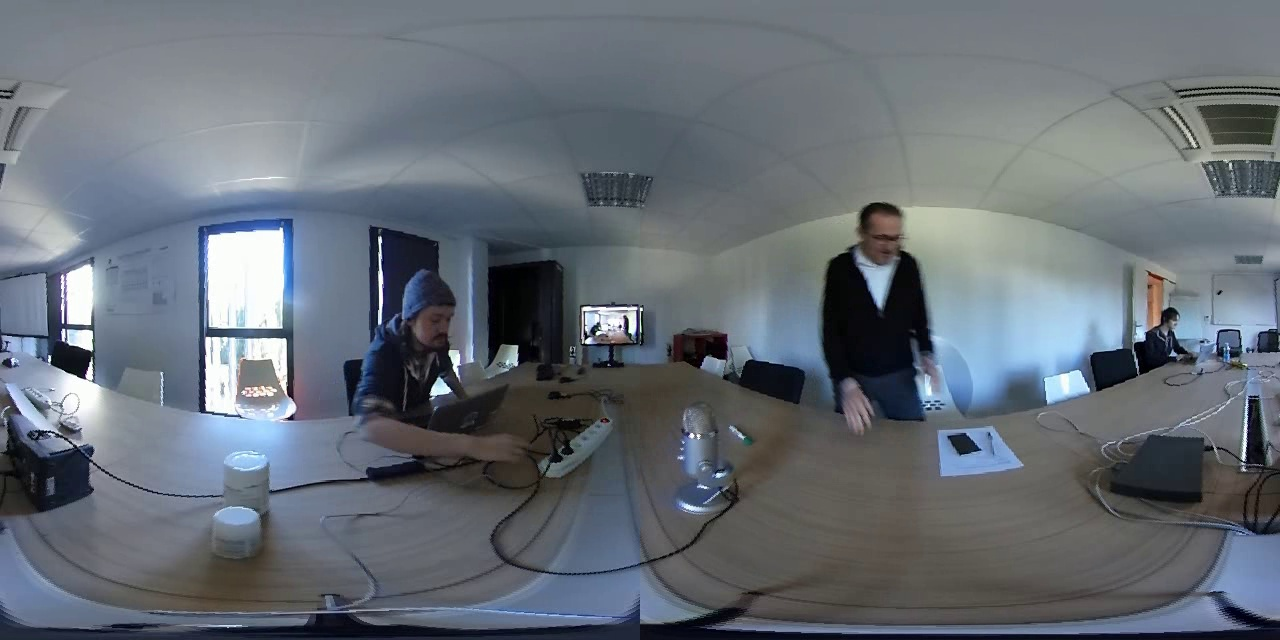person: (819, 191, 944, 412), (352, 255, 476, 406), (1143, 295, 1195, 370)
